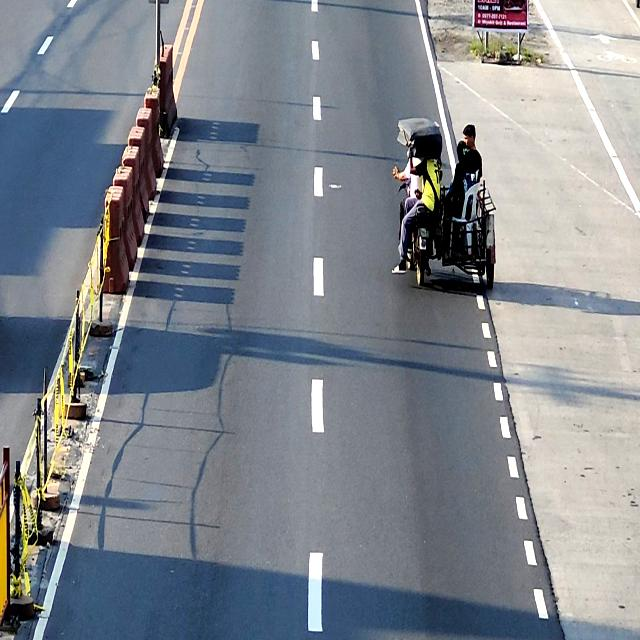License-Plate: (416, 228, 429, 238)
Tricycle: (398, 118, 496, 290)
